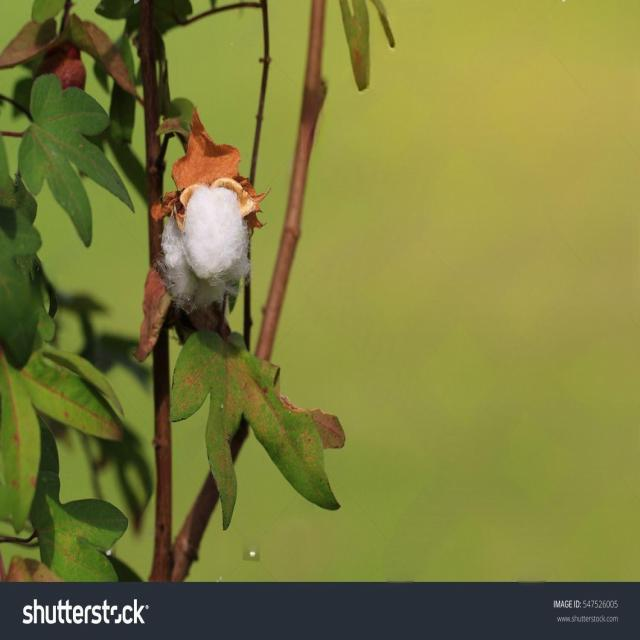Early_blight: (150, 179, 252, 308)
